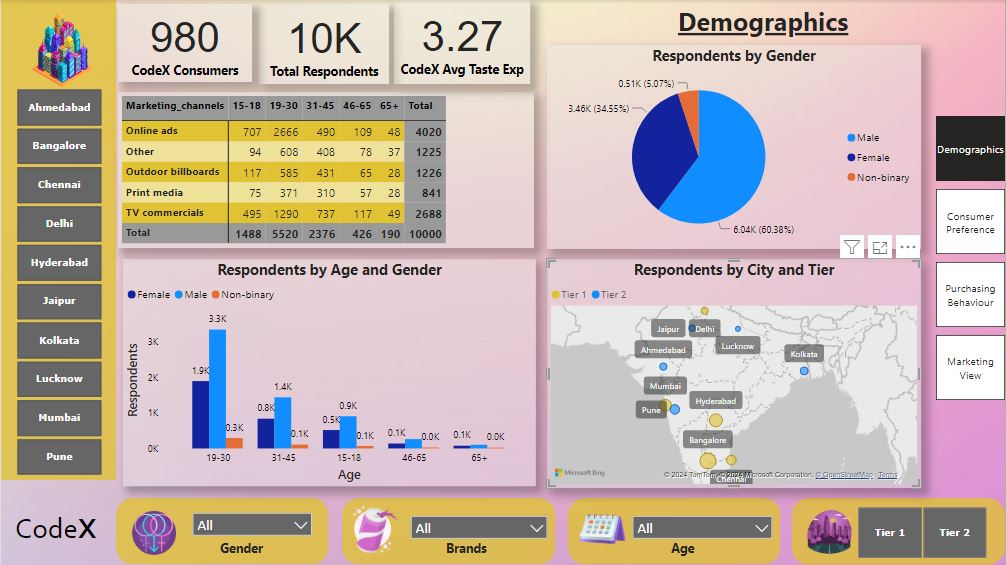

This screenshot's page, from the dashboard's own definition file:
{"tool":"powerbi","page":{"name":"Demographics","canvas":[1280,720],"ordinal":0},"visuals":[{"type":"shape","box":[1008.4,634.9,271.6,85.4],"z":0},{"type":"shape","box":[434.6,635.4,272.1,84.5],"z":1000},{"type":"shape","box":[722.6,635.4,270.8,84.5],"z":2000},{"type":"shape","box":[146.6,635.4,270.8,84.5],"z":3000},{"type":"shape","box":[0,0,146.9,611.9],"z":4000},{"type":"slicer","fields":{"Values":["dim_repondents.Gender"]},"box":[219.3,643.9,181.7,56.4],"z":5000},{"type":"slicer","fields":{"Values":["fact_survey_responses.Current_brands"]},"box":[512.3,653.3,194.3,48.6],"z":6000},{"type":"slicer","fields":{"Values":["dim_cities.Tier"]},"box":[1066.9,645.5,213.1,72.1],"z":7000},{"type":"slicer","title":".","fields":{"Values":["dim_repondents.Age"]},"box":[780.2,653.3,208.4,37.6],"z":8000},{"type":"card","fields":{"Values":["fact_survey_responses.CodeX Consumer"]},"box":[329,4.7,166.1,101.8],"z":9000},{"type":"card","fields":{"Values":["fact_survey_responses.CodeX Consumers"]},"box":[148.8,4.7,170.8,98.7],"z":10000},{"type":"pivotTable","fields":{"Rows":["fact_survey_responses.Marketing_channels"],"Columns":["dim_repondents.Age"],"Values":["CountNonNull(fact_survey_responses.Respondent_ID)"]},"box":[148.8,117.5,529.5,199],"z":11000},{"type":"clusteredColumnChart","title":"Respondents by Age and Gender","fields":{"Category":["dim_repondents.Age"],"Y":["CountNonNull(fact_survey_responses.Respondent_ID)"],"Series":["dim_repondents.Gender"]},"box":[155.1,330.6,526.4,289.8],"z":12000},{"type":"slicer","fields":{"Values":["dim_cities.City"]},"box":[0,106.8,146.9,505.1],"z":14000},{"type":"pieChart","title":"Respondents by Gender","fields":{"Category":["dim_repondents.Gender"],"Y":["CountNonNull(fact_survey_responses.Respondent_ID)"]},"box":[696.1,56.8,476.9,260.2],"z":15000},{"type":"image","box":[149.3,645.9,92.5,66],"z":16000},{"type":"image","box":[9.9,0,136.6,123.9],"z":17000},{"type":"image","box":[401.4,632.4,146.5,84.5],"z":18000},{"type":"image","box":[722.5,621.1,87.3,98.6],"z":19000},{"type":"image","box":[988.7,643.7,132.4,69],"z":20000},{"type":"card","fields":{"Values":["fact_survey_responses.CodeX Avg Taste Exp"]},"box":[501.3,0,173.9,106.5],"z":21000},{"type":"map","title":"Respondents by City and Tier","fields":{"Category":["dim_cities.City"],"Size":["CountNonNull(fact_survey_responses.Respondent_ID)"],"Series":["dim_cities.Tier"]},"box":[696.1,330.2,476.9,291.9],"z":22000},{"type":"textbox","box":[274.2,683.1,90.9,37.6],"z":23000},{"type":"textbox","box":[562.4,683.1,70.5,37.6],"z":24000},{"type":"textbox","box":[849.2,683.1,70.5,37.6],"z":25000},{"type":"textbox","box":[12.5,645.5,142.6,68.9],"z":26000},{"type":"textbox","box":[857.5,0,299.6,62],"z":27000},{"type":"pageNavigator","box":[1191.5,147.9,88.5,364.6],"z":34001}]}

Visuals, with their boxes in screenshot pixels (x1, y1, x2, y2), scaled from the page's 1280x720 canvas onto the 1006x565 screenshot:
shape: (x1=793, y1=498, x2=1005, y2=564)
shape: (x1=342, y1=499, x2=555, y2=564)
shape: (x1=568, y1=499, x2=781, y2=564)
shape: (x1=115, y1=499, x2=328, y2=564)
shape: (x1=0, y1=0, x2=115, y2=480)
slicer - dim_repondents.Gender: (x1=172, y1=505, x2=315, y2=550)
slicer - fact_survey_responses.Current_brands: (x1=403, y1=513, x2=555, y2=551)
slicer - dim_cities.Tier: (x1=839, y1=507, x2=1005, y2=563)
"." slicer: (x1=613, y1=513, x2=777, y2=542)
card - fact_survey_responses.CodeX Consumer: (x1=259, y1=4, x2=389, y2=84)
card - fact_survey_responses.CodeX Consumers: (x1=117, y1=4, x2=251, y2=81)
pivotTable - fact_survey_responses.Marketing_channels x dim_repondents.Age: (x1=117, y1=92, x2=533, y2=248)
"Respondents by Age and Gender" clusteredColumnChart: (x1=122, y1=259, x2=536, y2=487)
slicer - dim_cities.City: (x1=0, y1=84, x2=115, y2=480)
"Respondents by Gender" pieChart: (x1=547, y1=45, x2=922, y2=249)
image: (x1=117, y1=507, x2=190, y2=559)
image: (x1=8, y1=0, x2=115, y2=97)
image: (x1=315, y1=496, x2=431, y2=563)
image: (x1=568, y1=487, x2=636, y2=564)
image: (x1=777, y1=505, x2=881, y2=559)
card - fact_survey_responses.CodeX Avg Taste Exp: (x1=394, y1=0, x2=531, y2=84)
"Respondents by City and Tier" map: (x1=547, y1=259, x2=922, y2=488)
textbox: (x1=216, y1=536, x2=287, y2=564)
textbox: (x1=442, y1=536, x2=497, y2=564)
textbox: (x1=667, y1=536, x2=723, y2=564)
textbox: (x1=10, y1=507, x2=122, y2=561)
textbox: (x1=674, y1=0, x2=909, y2=49)
pageNavigator: (x1=936, y1=116, x2=1005, y2=402)
